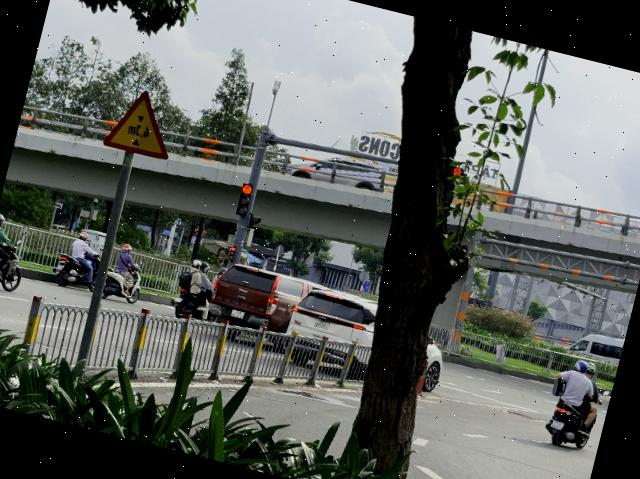chieu-cao-tinh-khong-thuc-te: (102, 84, 182, 162)
